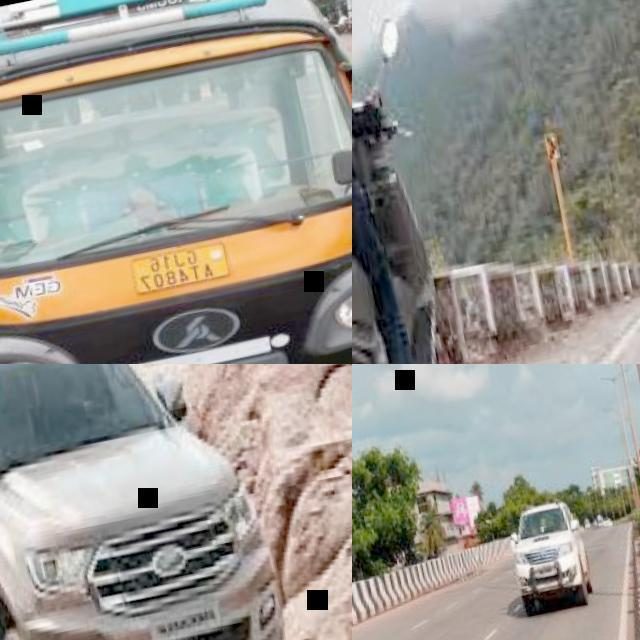car: (4, 357, 252, 636), (515, 500, 587, 613)
